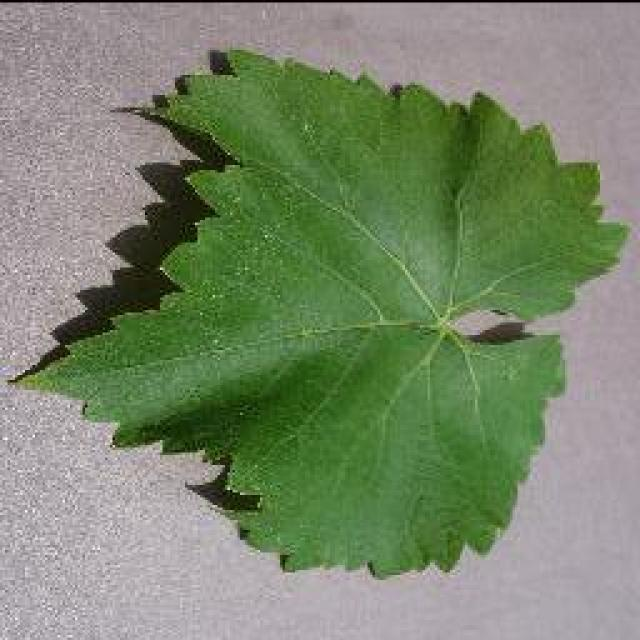Grape___healthy: (22, 50, 628, 568)
